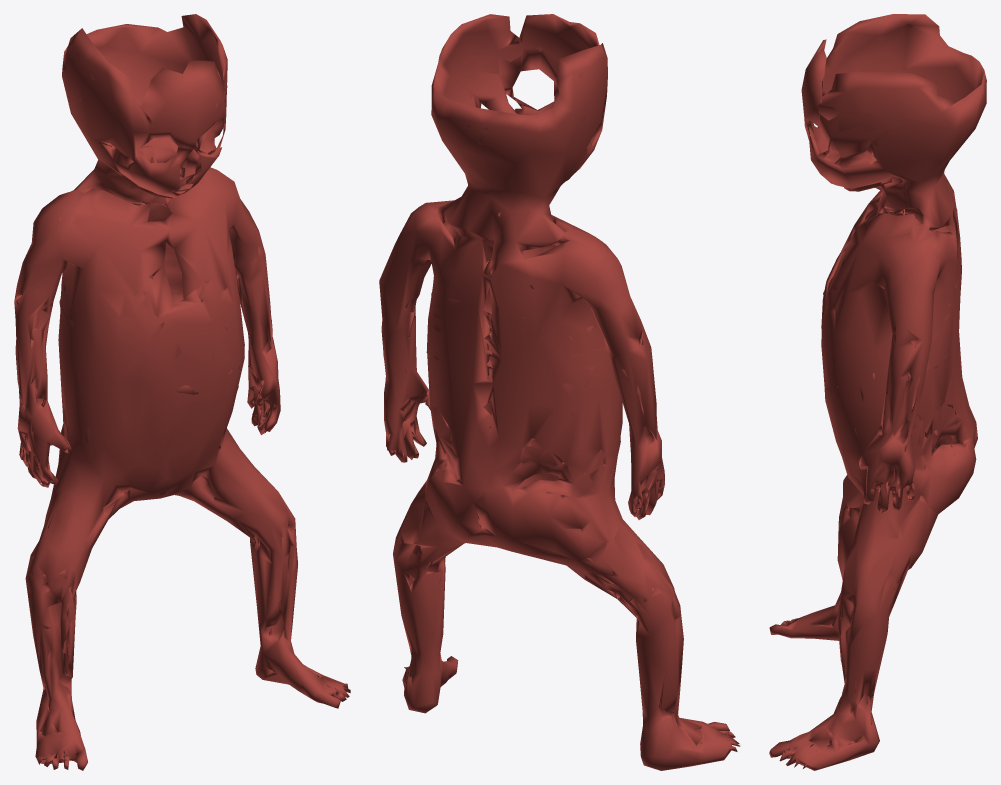
The model's file is pediatric_neonate_female.muscular.LOD3.glb.
The picture shows the model from 3 angles, left to right: view 1: azimuth 30°, elevation 25°; view 2: azimuth 150°, elevation 25°; view 3: azimuth 270°, elevation 25°; orthographic projection. The views are drawn at different scales.
Visible parts, largest first — view 1: PEDIATRIC.NEONATE.FEMALE.MUSCULAR.MUSCLE; view 2: PEDIATRIC.NEONATE.FEMALE.MUSCULAR.MUSCLE; view 3: PEDIATRIC.NEONATE.FEMALE.MUSCULAR.MUSCLE.
Part boxes in pixels (bbox=[...]): PEDIATRIC.NEONATE.FEMALE.MUSCULAR.MUSCLE: bbox=[14, 14, 350, 770]; PEDIATRIC.NEONATE.FEMALE.MUSCULAR.MUSCLE: bbox=[379, 14, 740, 770]; PEDIATRIC.NEONATE.FEMALE.MUSCULAR.MUSCLE: bbox=[769, 14, 986, 770].
Size of the model in its own units: 0.2234 by 0.4629 by 0.1378.
